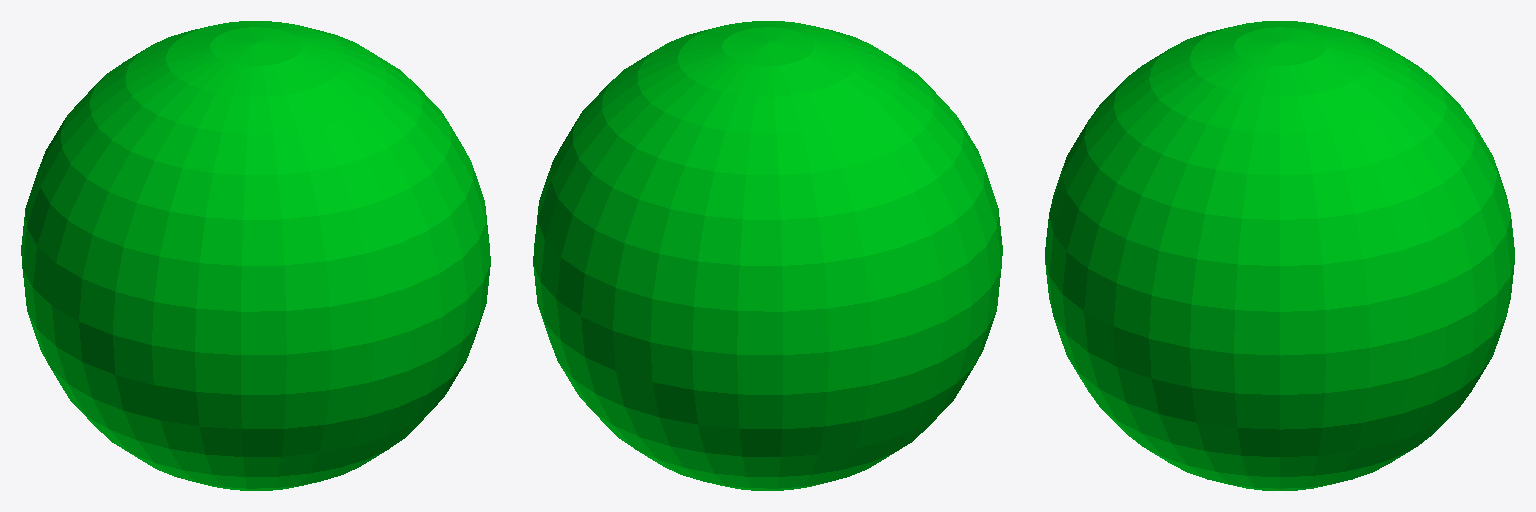
Rendered from PlayerBullet.obj.
3 renders of one model, left to right at view 1: azimuth 30°, elevation 25°; view 2: azimuth 150°, elevation 25°; view 3: azimuth 270°, elevation 25°, orthographic.
Parts seen in each view (by area): view 1: Sphere; view 2: Sphere; view 3: Sphere.
Part boxes in pixels (left/top/right/bottom): Sphere: left=21, top=21, right=490, bottom=490; Sphere: left=533, top=21, right=1002, bottom=490; Sphere: left=1045, top=21, right=1514, bottom=490.
Bounding box in the file's own units: 2 × 2 × 2.